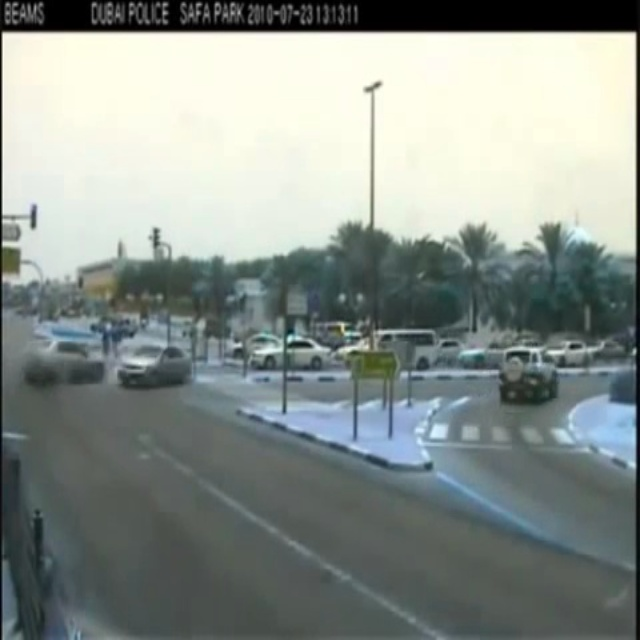acc: (26, 334, 195, 401)
